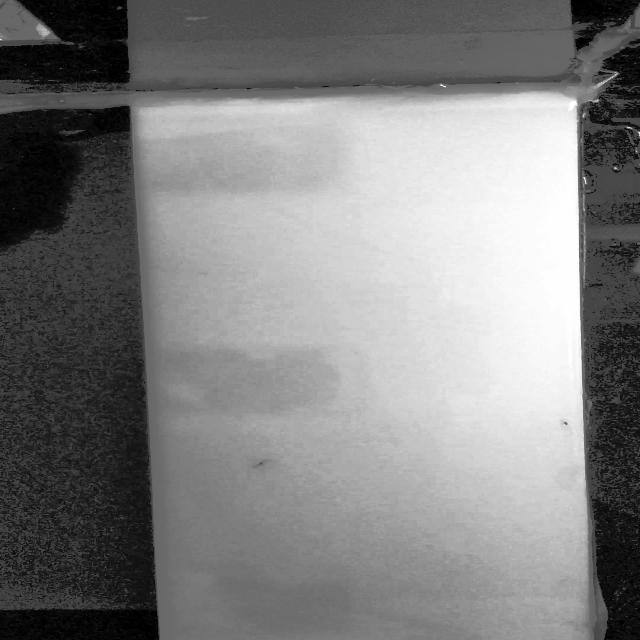shrimp: (248, 452, 284, 472), (555, 418, 575, 432)
